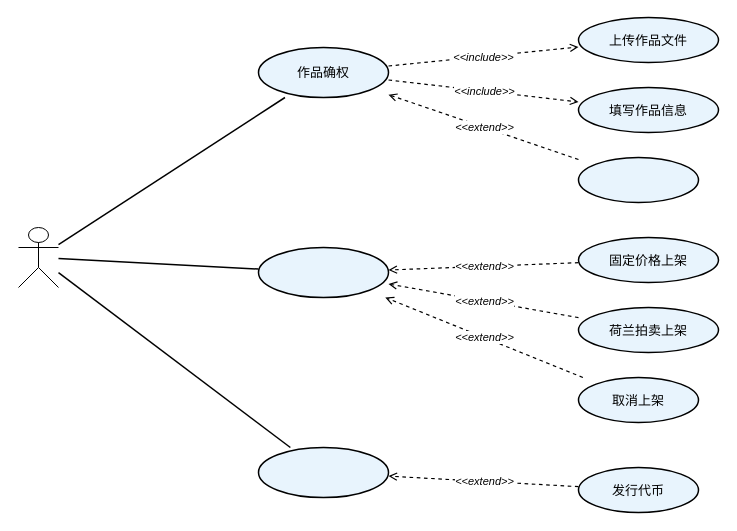
This 737x531 diagram has some shape labels left out. Each missing label, with the box of its shape:
上架出售: (257, 246, 389, 298)
创作者: (18, 226, 58, 288)
版本更新: (577, 156, 699, 203)
粉丝代币: (257, 446, 389, 498)
